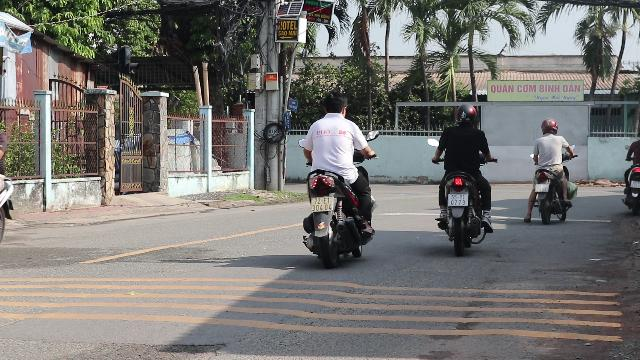helmet: (454, 103, 476, 125), (540, 117, 558, 134)
licenseplate: (311, 196, 334, 212), (448, 194, 468, 206), (535, 184, 549, 192)
motorcyclist: (297, 89, 379, 267), (430, 102, 496, 254), (524, 117, 576, 222)
nohelmet: (321, 90, 349, 117)
